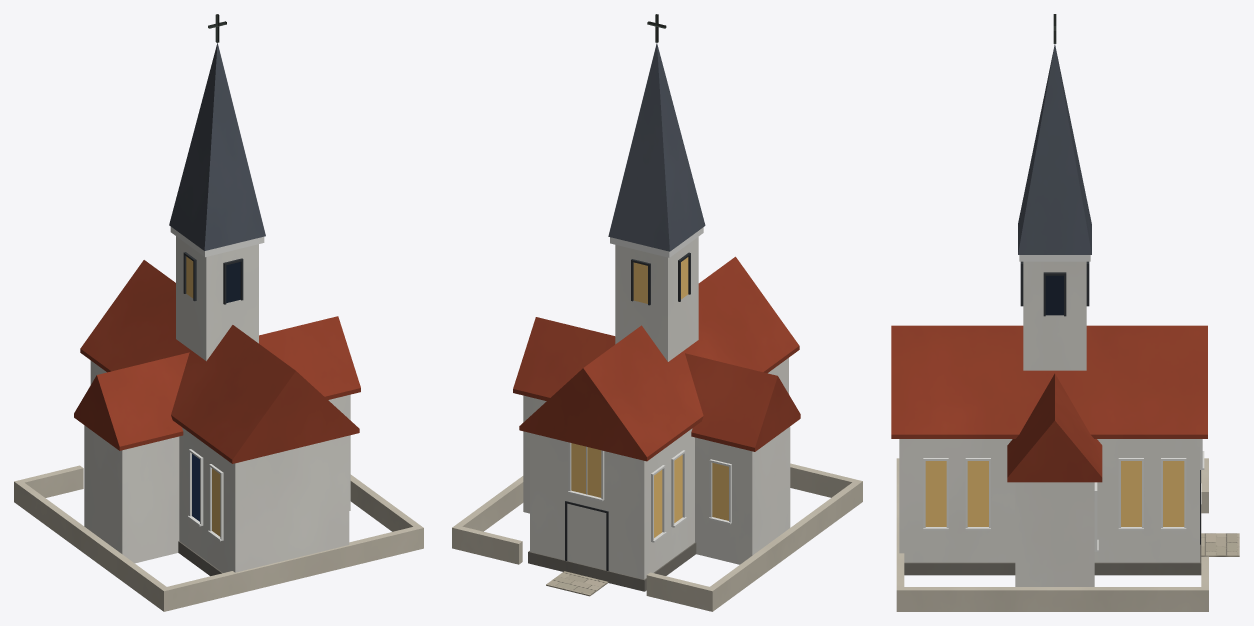
Rendered from dum_03_kostel.glb.
3 views of the same model, side by side, from view 1: azimuth 30°, elevation 25°; view 2: azimuth 150°, elevation 25°; view 3: azimuth 270°, elevation 25° (orthographic). The views are drawn at different scales.
Parts seen in each view (by area): view 1: dum, noc; view 2: dum, noc; view 3: dum, noc.
Part boxes in pixels (<box>): dum: <box>14,14,423,611</box>; noc: <box>186,256,220,536</box>; dum: <box>452,14,862,611</box>; noc: <box>571,257,728,537</box>; dum: <box>891,14,1239,611</box>; noc: <box>925,461,1184,526</box>.
Bounding box in the file's own units: 11.81 × 22.14 × 13.16.
Materials: 1 (1 with a texture image).
